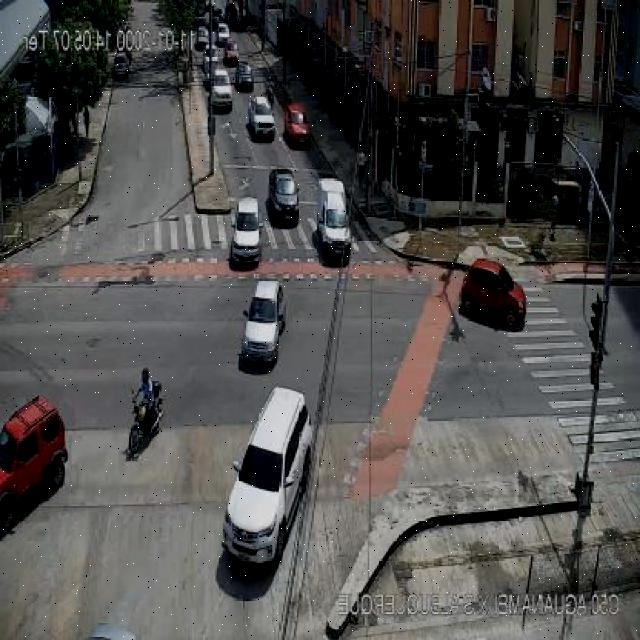Car: (223, 386, 313, 565), (241, 278, 286, 364), (268, 169, 299, 223), (283, 103, 311, 148), (248, 96, 276, 140), (208, 70, 234, 110), (202, 49, 222, 80), (235, 62, 254, 92), (112, 51, 130, 80), (223, 39, 240, 66), (215, 22, 230, 46), (195, 26, 209, 51)
Truck: (314, 180, 350, 263), (230, 198, 263, 266)
